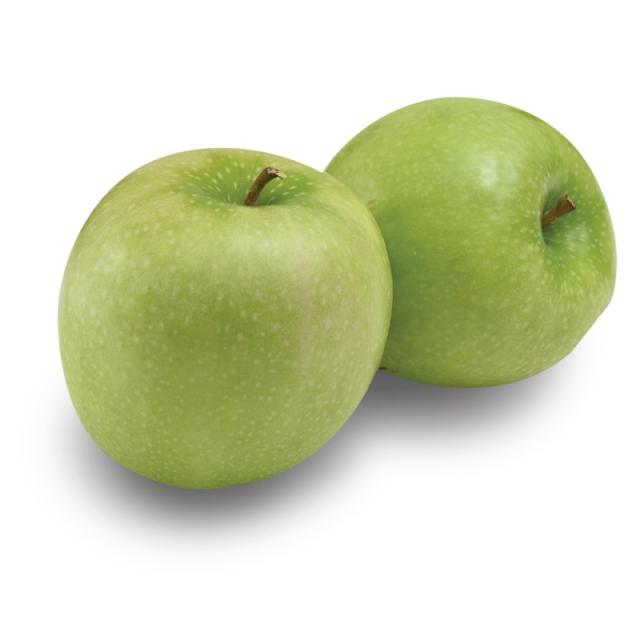Green Apple: (56, 147, 394, 491), (324, 95, 618, 390)
